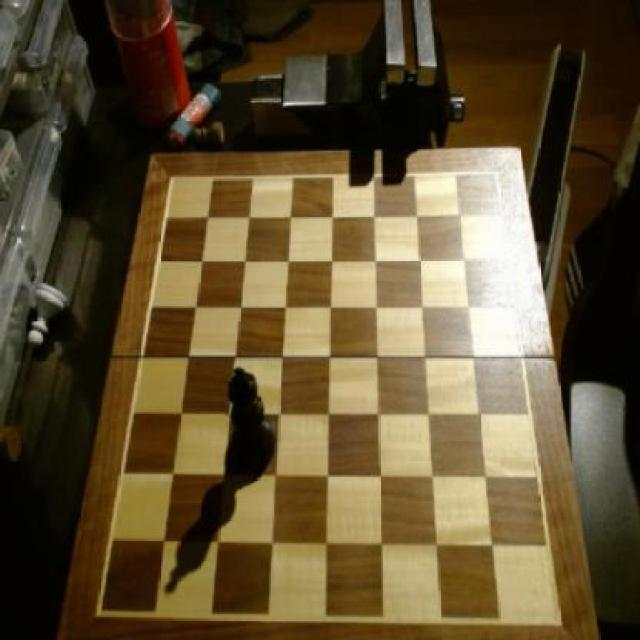black-bishop: (228, 362, 276, 472)
